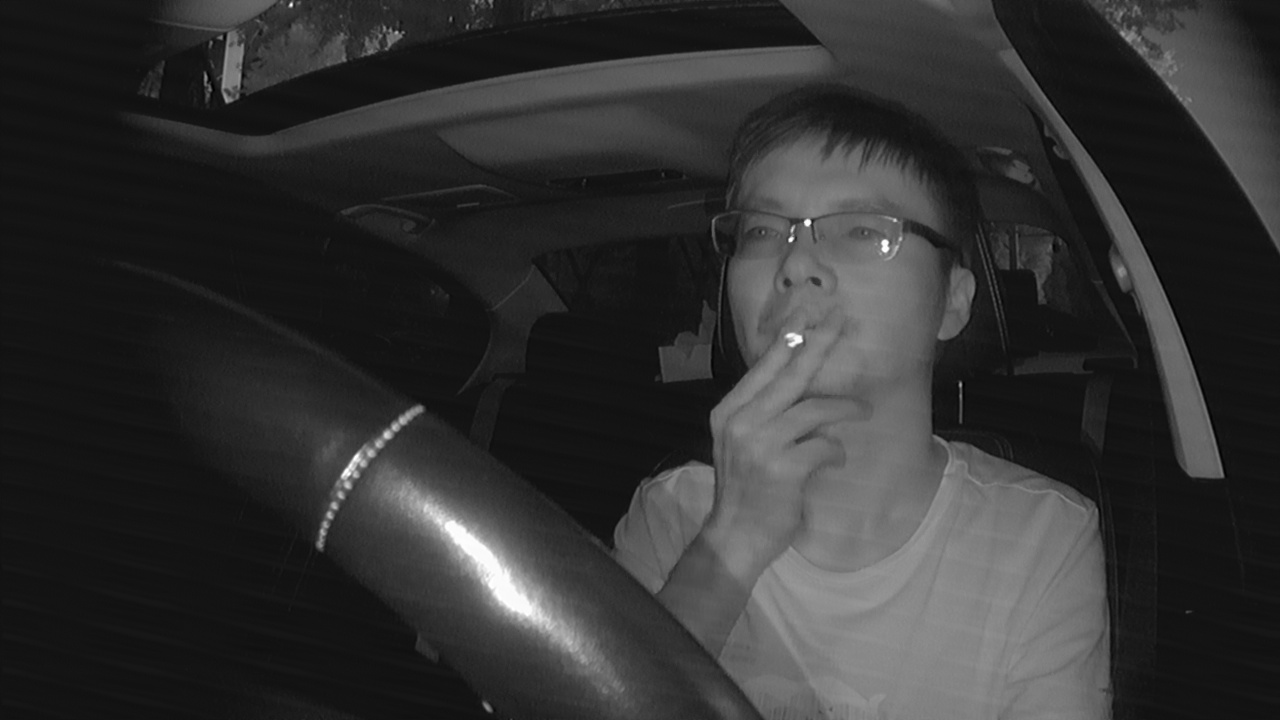hand: (713, 310, 864, 494)
